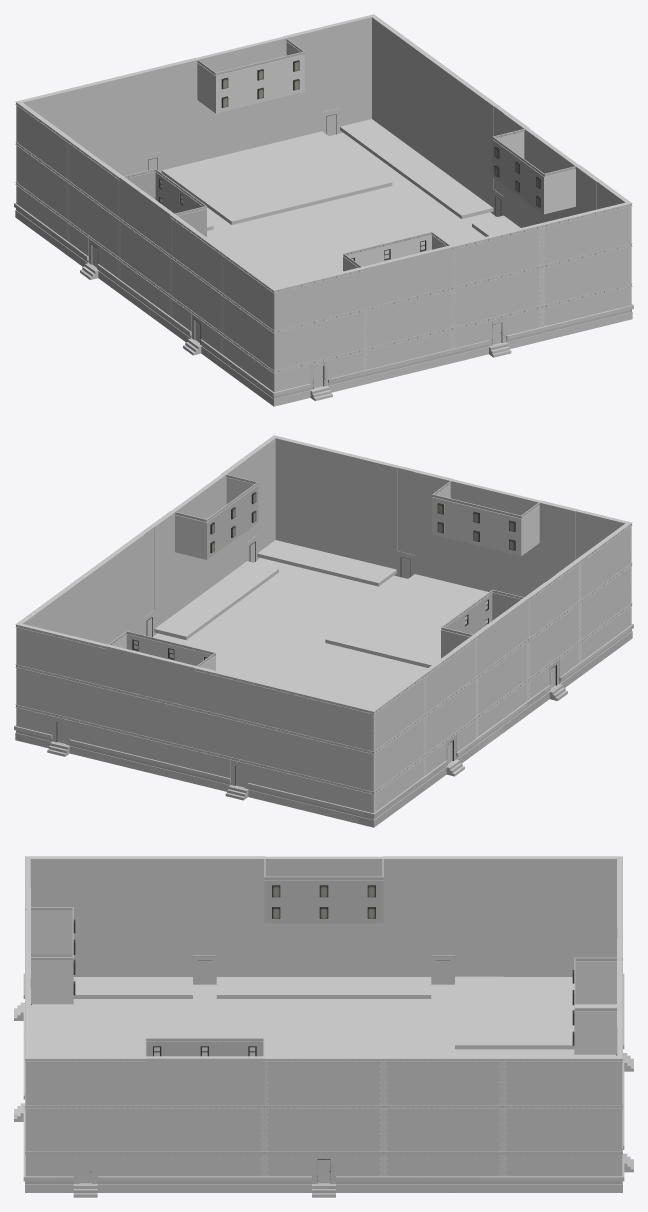
File: apartment block.fbx
3 views of the same model, one above another, from view 1: azimuth 30°, elevation 25°; view 2: azimuth 150°, elevation 25°; view 3: azimuth 270°, elevation 25° (orthographic). The views are drawn at different scales.
Parts seen in each view (by area): view 1: apartment block, Cube.103, Cube.032, Cube.033, Cube.051, Cube.108, Cube.090, Cube.091, Cube.071, Cube.052, Cube.082, Cube.102 (+15 smaller); view 2: apartment block, Cube.103, Cube.051, Cube.052, Cube.033, Cube.032, Cube.090, Cube.111, Cube.091, Cube.070, Cube.071, Cube.102 (+16 smaller); view 3: apartment block, Cube.070, Cube.090, Cube.071, Cube.103, Cube.091, Cube.082, Cube.102, Cube.111, Cube.107, Cube.101, Cube.081 (+12 smaller).
Part boxes in pixels (x1,y1,x2,y2): apartment block: (14, 14, 633, 406); Cube.103: (15, 132, 632, 406); Cube.032: (326, 236, 488, 378); Cube.033: (504, 201, 631, 335); Cube.051: (160, 28, 322, 170); Cube.108: (161, 131, 392, 224); Cube.090: (99, 161, 195, 337); Cube.091: (202, 236, 278, 392); Cube.071: (421, 52, 497, 214); Cube.052: (16, 71, 143, 204); Cube.082: (372, 15, 424, 154); Cube.102: (18, 101, 71, 239); apartment block: (14, 435, 633, 827); Cube.103: (15, 558, 632, 824); Cube.051: (70, 636, 232, 778); Cube.052: (248, 679, 376, 813); Cube.033: (272, 435, 398, 575); Cube.032: (415, 470, 577, 597); Cube.090: (452, 582, 548, 752); Cube.111: (325, 574, 488, 667); Cube.091: (555, 523, 630, 677); Cube.070: (150, 458, 247, 635); Cube.071: (68, 534, 144, 644); Cube.102: (369, 673, 425, 812); apartment block: (14, 856, 633, 1195); Cube.070: (97, 1056, 311, 1176); Cube.090: (216, 856, 431, 976); Cube.071: (336, 1056, 503, 1176); Cube.103: (25, 984, 622, 1192); Cube.091: (30, 856, 192, 976); Cube.082: (503, 1056, 622, 1176); Cube.102: (503, 856, 622, 976); Cube.111: (23, 1005, 238, 1095); Cube.107: (455, 976, 624, 1049); Cube.101: (455, 856, 503, 976); Cube.081: (26, 1056, 73, 1176).
Bounding box in the file's own units: 4202 × 1240 × 5202.
